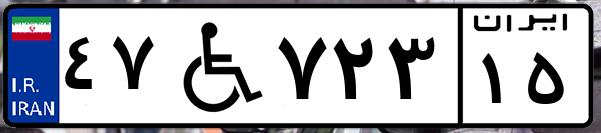1: (475, 38, 525, 113)
2: (330, 28, 385, 110)
3: (385, 28, 445, 110)
4: (57, 26, 110, 100)
5: (525, 38, 570, 115)
7: (270, 28, 330, 110), (110, 28, 158, 98)
ژ (معلولین و جانبازان): (158, 12, 270, 120)
